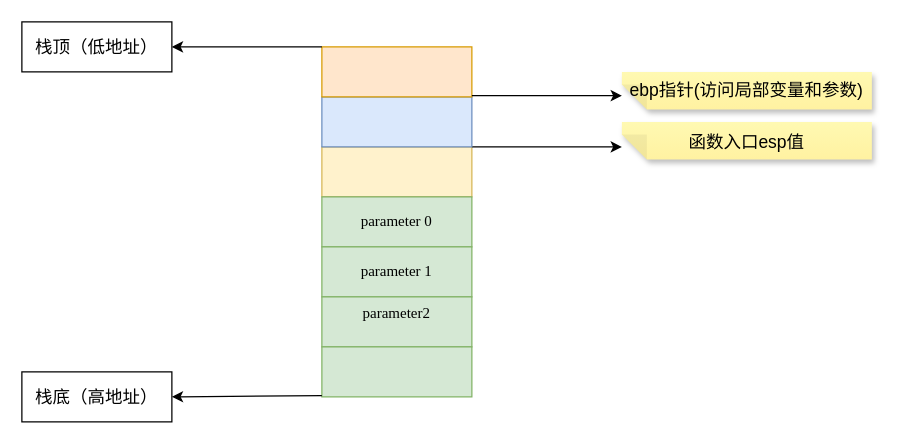
Image size: 901x444. Some labels were removed from this diagram. Here are the shapes that lost their labels. From the top down, the centre of each, then its label:
At point 396,71: "local variable".
At point 396,121: "ebp".
At point 396,171: "return address".
At point 396,371: "parameter3".
